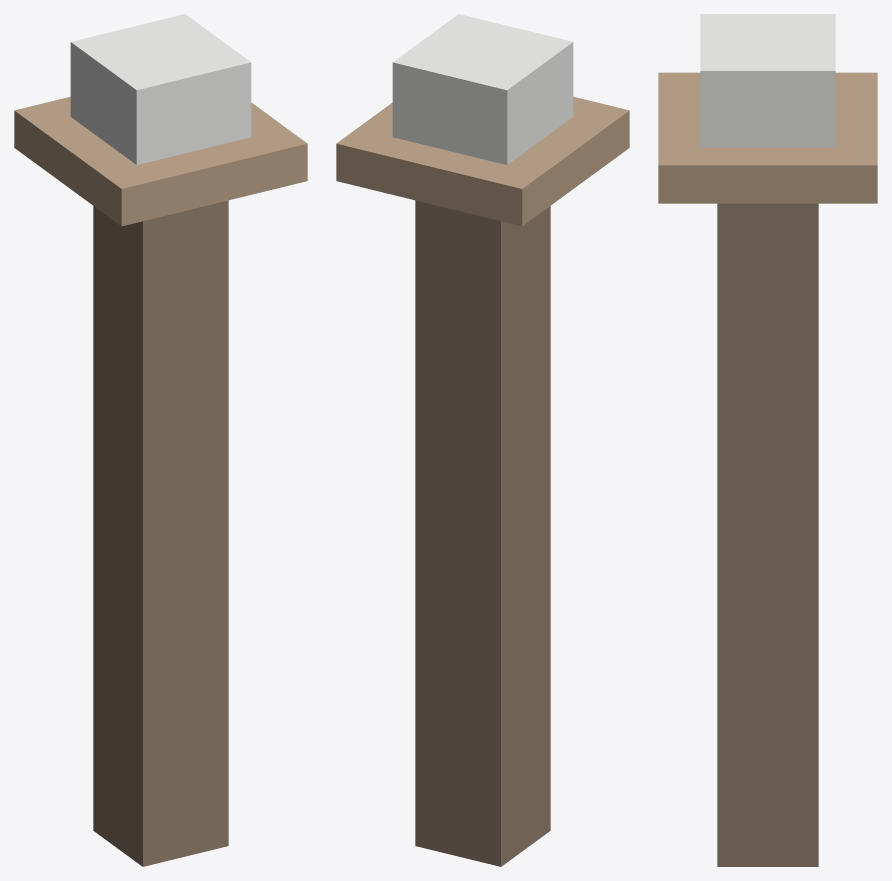
The model's file is salt-lick-post.glb.
3 renders of one model, left to right at view 1: azimuth 30°, elevation 25°; view 2: azimuth 150°, elevation 25°; view 3: azimuth 270°, elevation 25°, orthographic. The views are drawn at different scales.
Visible parts, largest first — view 1: salt-lick-post; view 2: salt-lick-post; view 3: salt-lick-post.
Part boxes in pixels (x1,y1,x2,y2): salt-lick-post: (14, 14, 307, 866); salt-lick-post: (336, 14, 629, 866); salt-lick-post: (658, 14, 877, 866).
Bounding box in the file's own units: 0.26 × 1.05 × 0.26.
